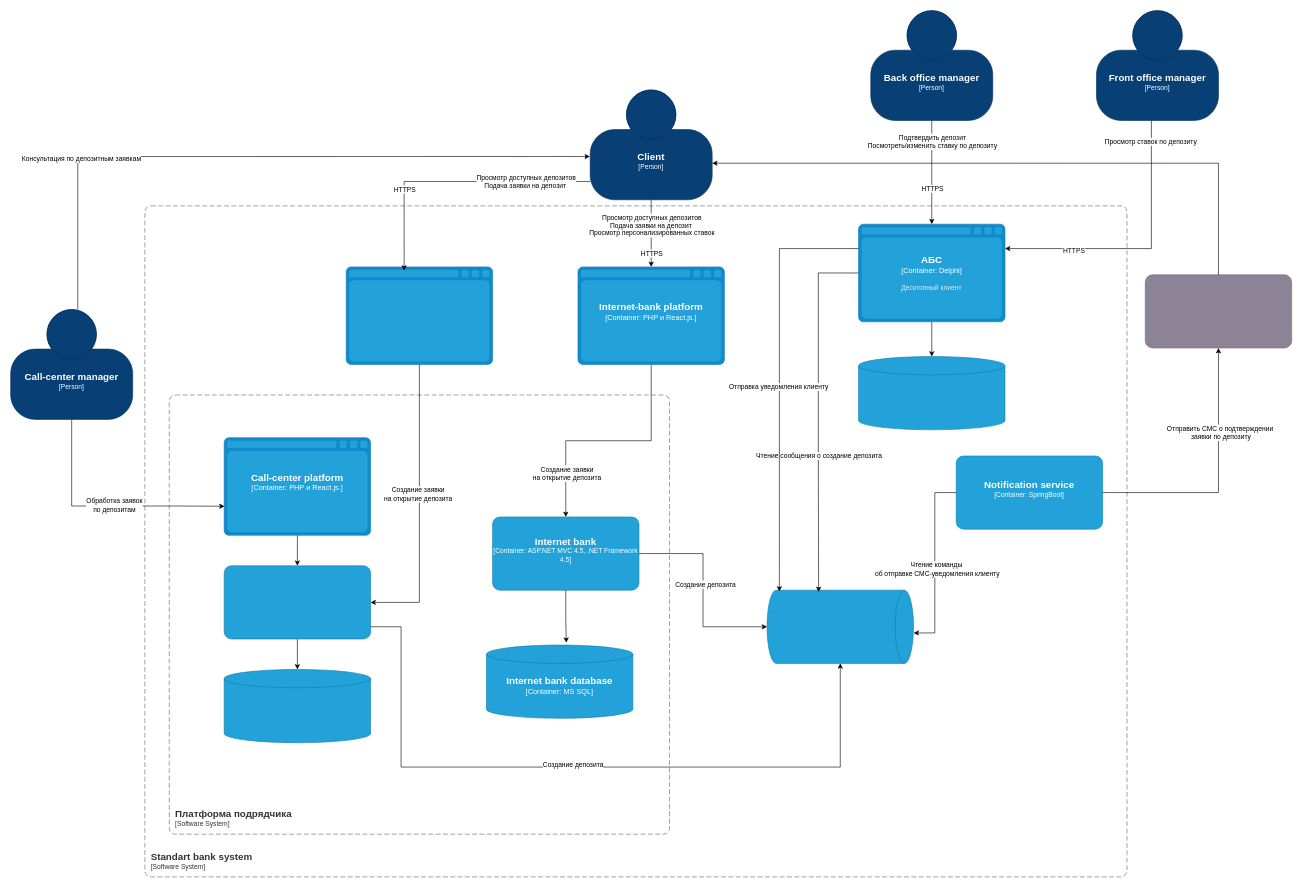
This 1302x888 diagram has some shape labels left out. Here are the shapes that lost their labels. From the top down, the centre of each, then its label:
(419,315): Сайта банка [Container: PHP и React.js.]
(1218,311): Telecom operator [Software System]
(931,393): АБС database [Container: Oracle]
(297,602): Call-center service [Container: Spring Boot]
(839,626): Message broker [Container: Apache Kafka]
(297,706): Call-center database [Container: PostgreSQL]
